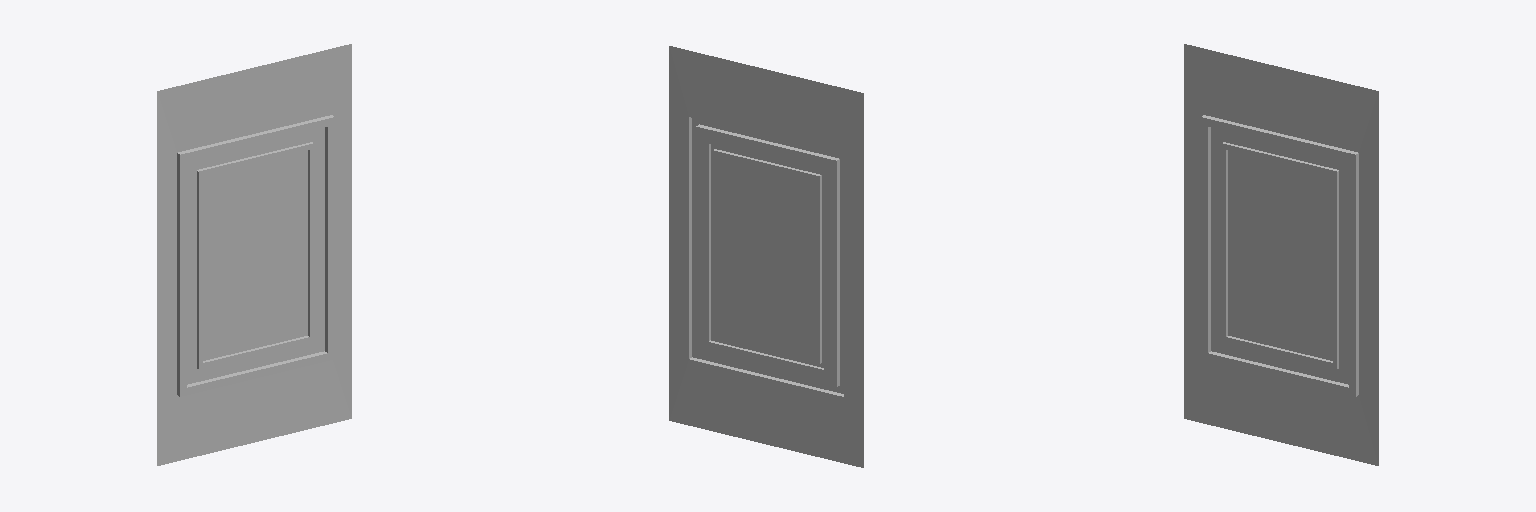
Rendered from cabinetDescripLow.obj.
3 renders of one model, left to right at view 1: azimuth 30°, elevation 25°; view 2: azimuth 150°, elevation 25°; view 3: azimuth 330°, elevation 25°, orthographic.
Bounding box in the file's own units: 3.96 × 7.29 × 0.1026.